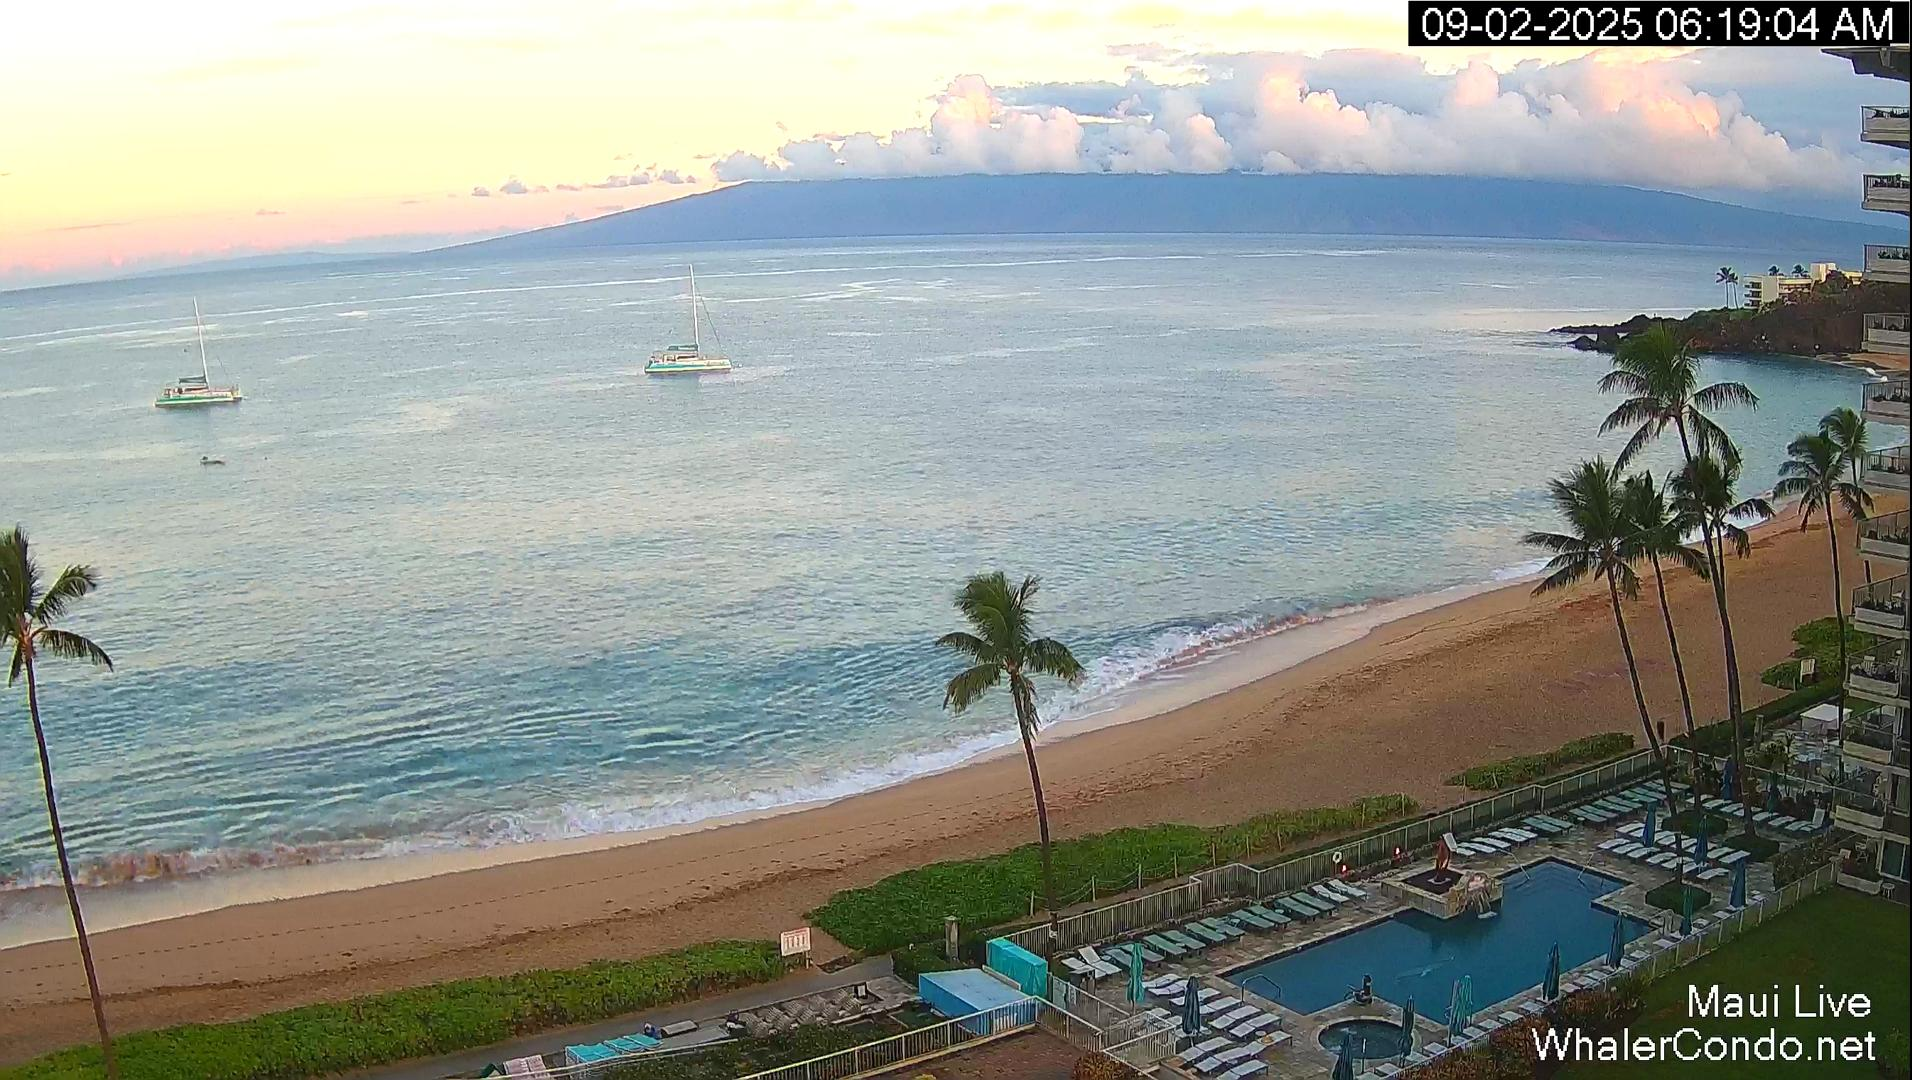boat: (643, 264, 734, 374), (155, 296, 243, 407), (643, 343, 733, 374), (200, 453, 226, 466)
